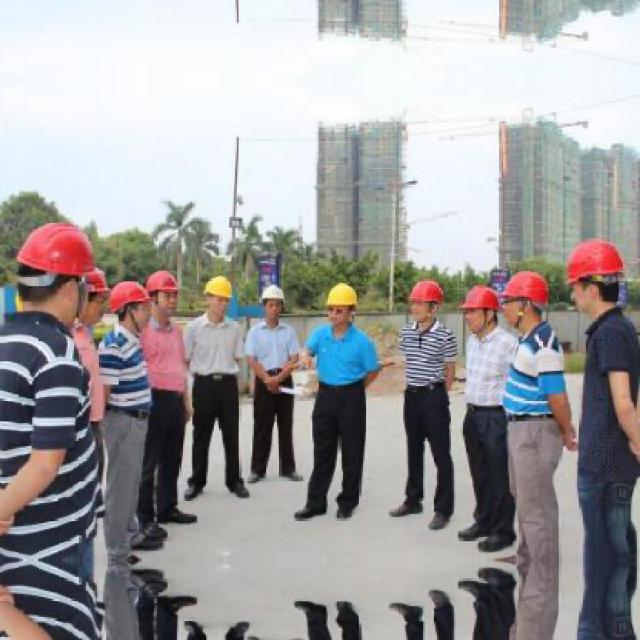helmet: (11, 220, 97, 318), (562, 238, 628, 318), (502, 269, 548, 331), (77, 266, 111, 332), (114, 281, 151, 334), (323, 280, 360, 329), (462, 283, 498, 332), (408, 279, 448, 323), (149, 266, 182, 316), (202, 274, 238, 318), (258, 277, 288, 321)
